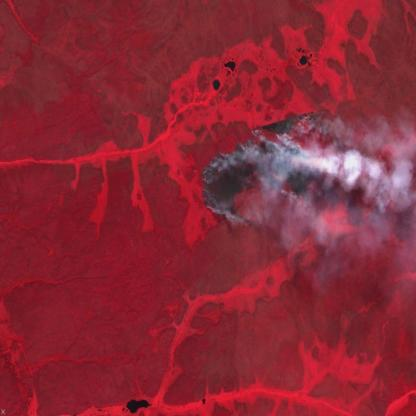fire: (199, 106, 328, 224)
